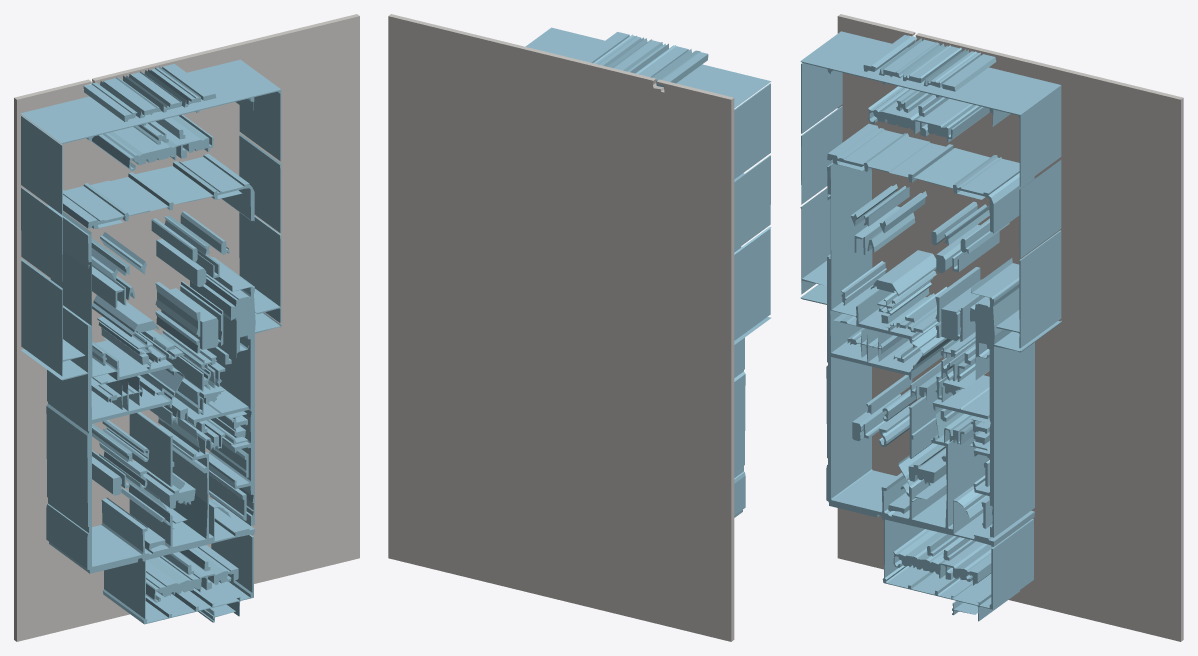
3 renders of one model, left to right at view 1: azimuth 30°, elevation 25°; view 2: azimuth 150°, elevation 25°; view 3: azimuth 330°, elevation 25°, orthographic.
Parts seen in each view (by area): view 1: world; view 2: world; view 3: world.
Part boxes in pixels (<box>): world: <box>14,14,359,641</box>; world: <box>388,14,771,641</box>; world: <box>800,14,1183,641</box>.
Size of the model in its own units: 10.23 by 15.45 by 2.26.
